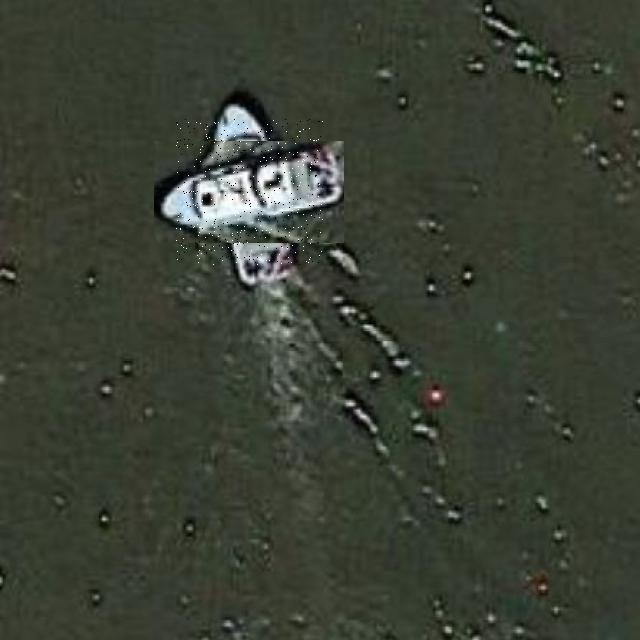boat: (176, 119, 323, 265)
